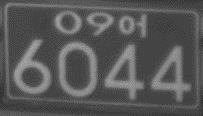0: (57, 40, 98, 98), (53, 9, 81, 35)
4: (104, 43, 145, 100), (150, 44, 190, 102)
6: (12, 39, 52, 94)
9: (85, 10, 113, 36)
어: (118, 13, 148, 39)
